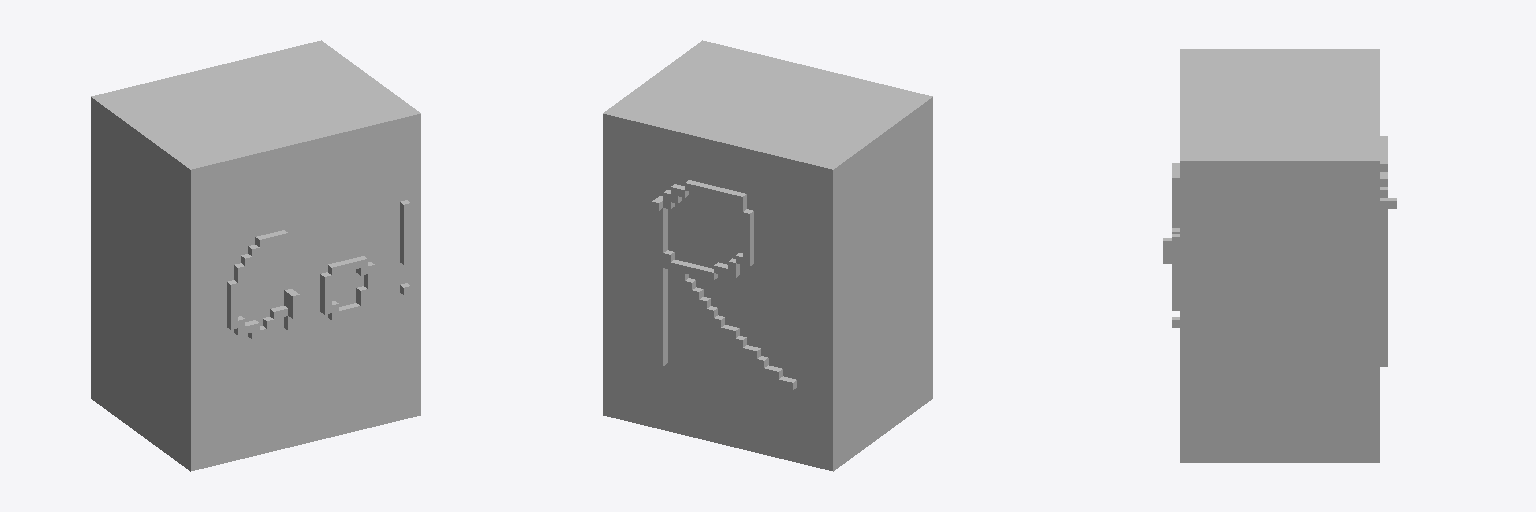
The model's file is tarso.obj.
3 views of the same model, side by side, from view 1: azimuth 30°, elevation 25°; view 2: azimuth 150°, elevation 25°; view 3: azimuth 270°, elevation 25° (orthographic).
Visible parts, largest first — view 1: playertarso; view 2: playertarso; view 3: playertarso.
Boxes of the visible parts, <box> form: playertarso: <box>91,40,420,471</box>; playertarso: <box>603,40,932,471</box>; playertarso: <box>1163,49,1396,462</box>.
Size of the model in its own units: 3.2 by 4 by 2.8.